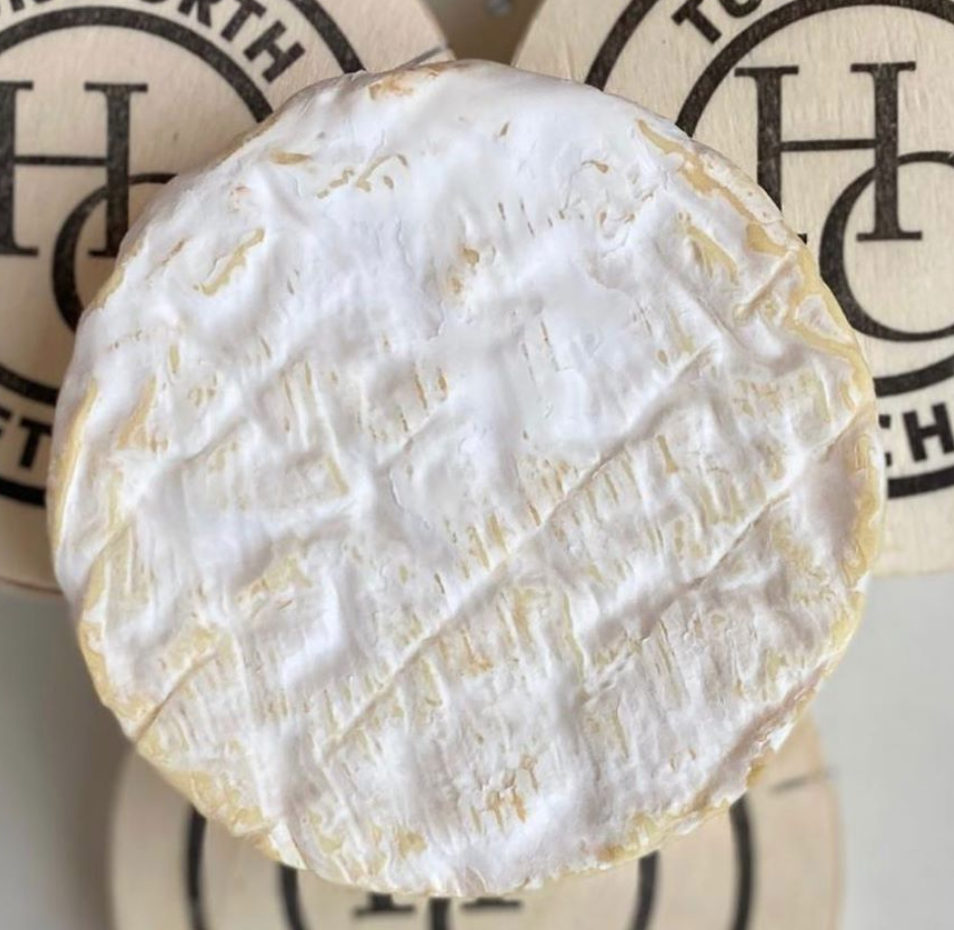camembert: (42, 58, 892, 903)
